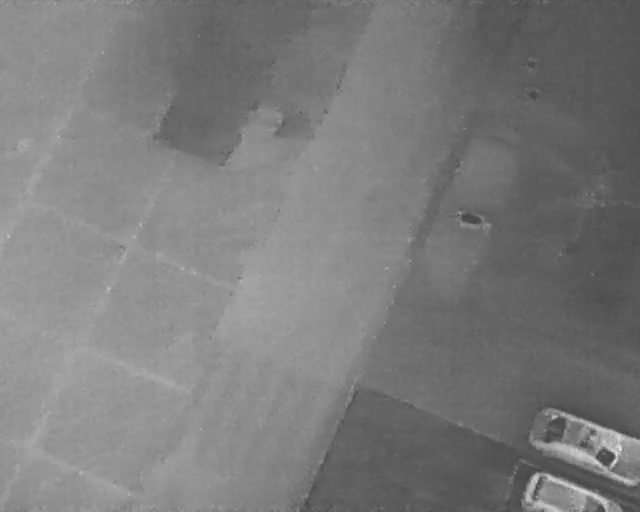Bicycle: (451, 205, 492, 233), (523, 57, 541, 72), (523, 88, 542, 101)
Car: (528, 404, 639, 487), (518, 470, 625, 510)
